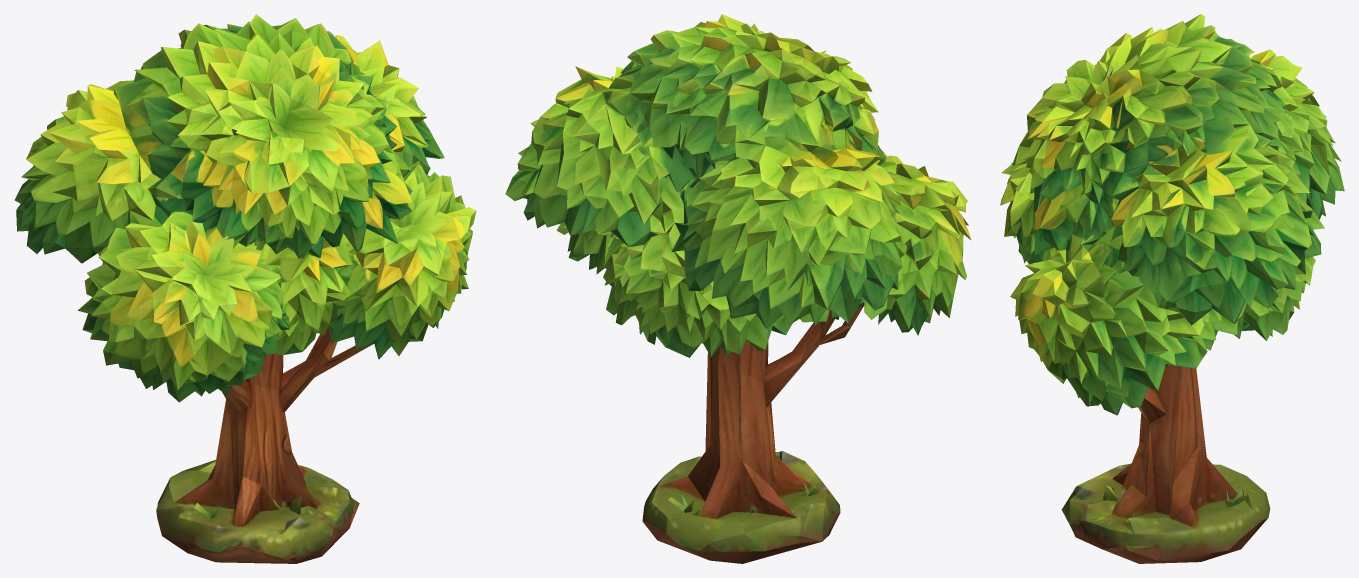
Rendered from camp_arbre2.glb.
3 views of the same model, side by side, from view 1: azimuth 30°, elevation 25°; view 2: azimuth 150°, elevation 25°; view 3: azimuth 270°, elevation 25° (orthographic). The views are drawn at different scales.
Bounding box in the file's own units: 1.53 × 1.89 × 1.21.
Materials: 1 (1 with a texture image).
